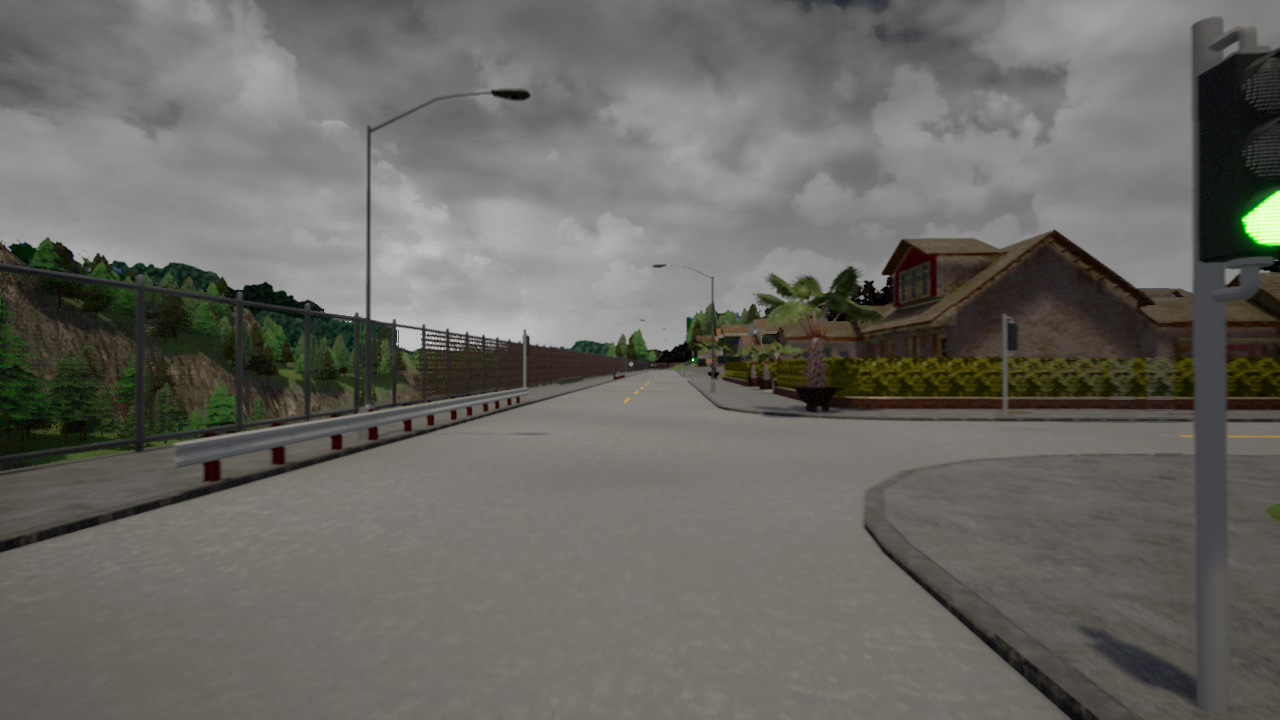green: (1213, 41, 1280, 284)
